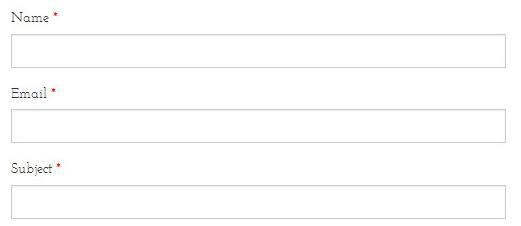field: (7, 32, 509, 69), (7, 108, 507, 144), (8, 184, 508, 219)
field_with_label: (4, 8, 510, 71), (4, 160, 511, 221), (5, 87, 509, 146)
